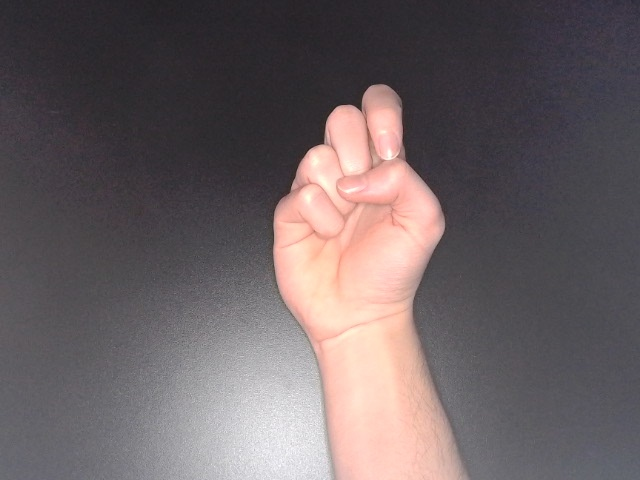s: (268, 80, 450, 363)
